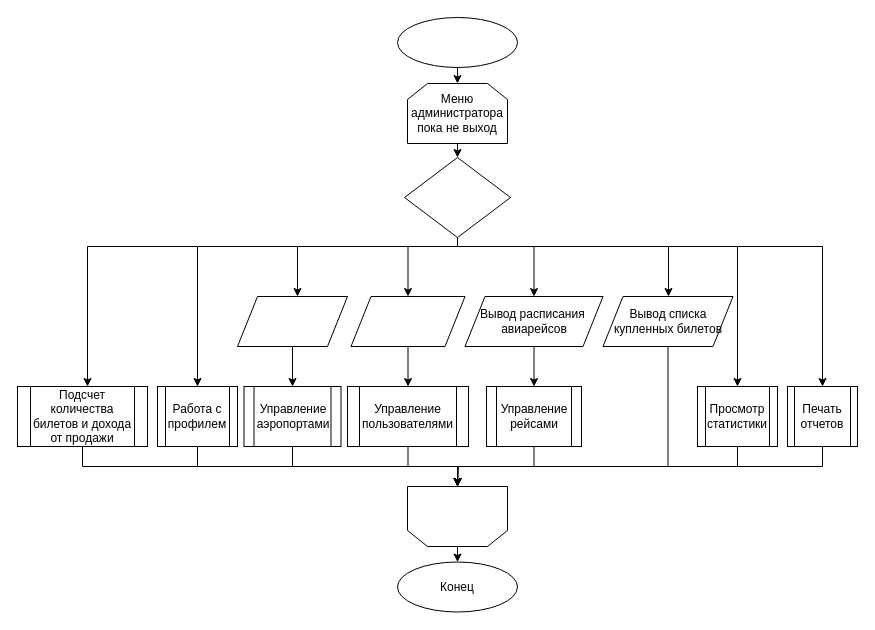
This 875x630 diagram has some shape labels left out. Here are the shapes that lost their labels. From the top down, the centre of each, then its label:
the point at 457,42: Начало
the point at 457,197: Выбор пункта меню
the point at 292,321: Вывод списка аэропортов
the point at 407,321: Вывод саиска пользователей
the point at 457,516: Меню администратора
